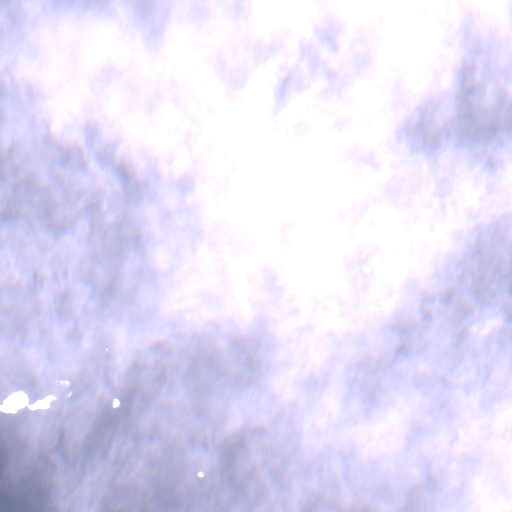Iceberg: (0, 391, 28, 413), (28, 395, 56, 409), (113, 399, 119, 407), (197, 472, 203, 476), (65, 381, 69, 384), (68, 392, 70, 396), (60, 381, 62, 383), (106, 349, 107, 350)
